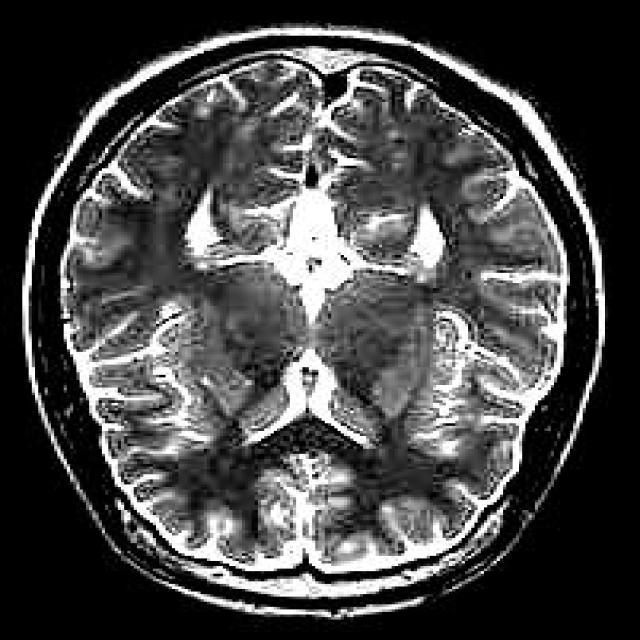notumor: (22, 28, 602, 615)
